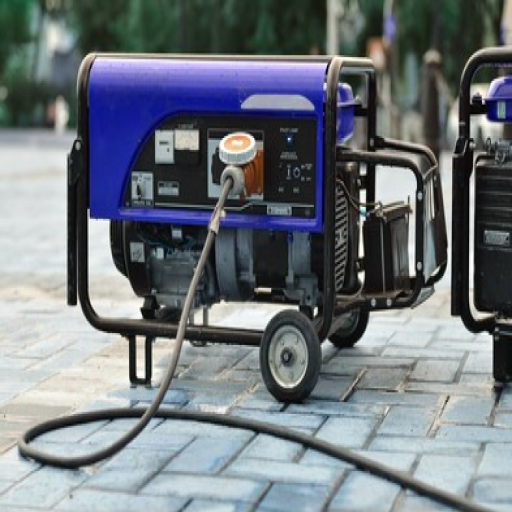portable_generator: (74, 52, 379, 345)
